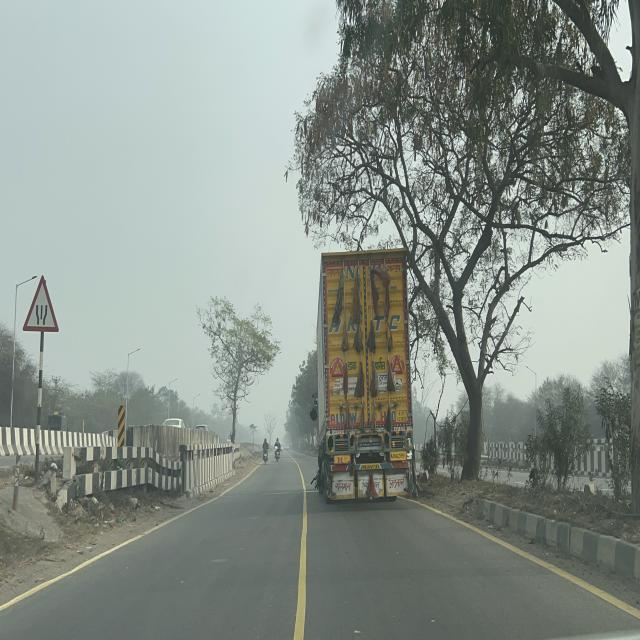ROAD_WIDENS_AHEAD: (23, 274, 60, 334)
